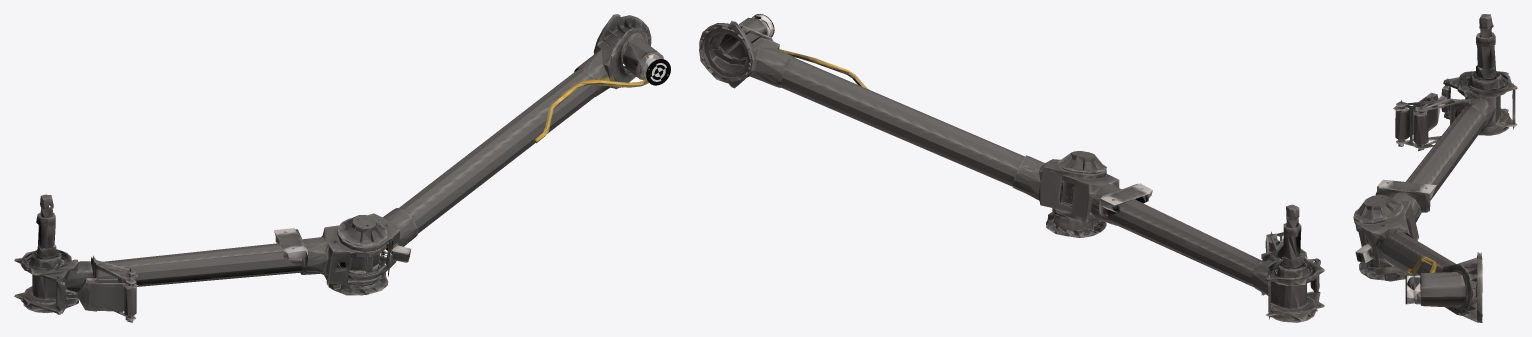
The model's file is Left_Rocker.gltf.
The picture shows the model from 3 angles, left to right: view 1: azimuth 30°, elevation 25°; view 2: azimuth 150°, elevation 25°; view 3: azimuth 270°, elevation 25°; orthographic projection. The views are drawn at different scales.
Parts seen in each view (by area): view 1: Mesh_0; view 2: Mesh_0; view 3: Mesh_0.
Boxes of the visible parts, x1,y1,x2,y2 form: Mesh_0: (14,14,670,322); Mesh_0: (699,14,1324,322); Mesh_0: (1353,14,1517,322).
Bounding box in the file's own units: 1.78 × 0.4439 × 0.3956.
Materials: 1 (1 with a texture image).
